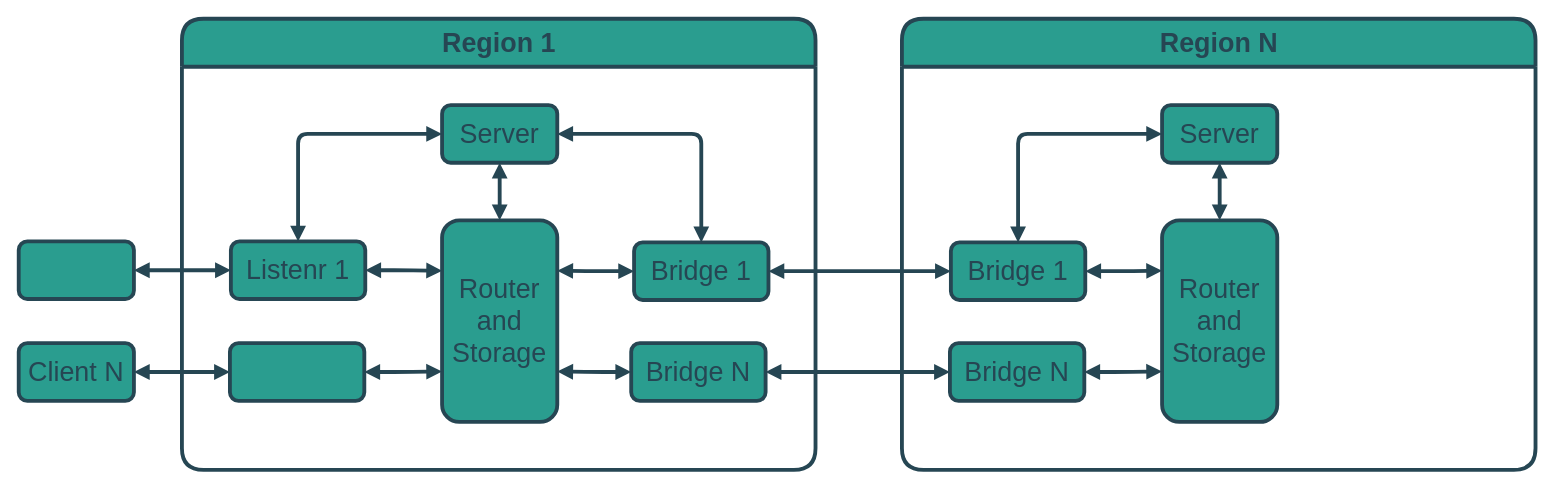
This 1553x488 diagram has some shape labels left out. The centre of each missing label's shape, as x and y in pixels:
Client 1: point (75, 269)
Listenr N: point (297, 371)
